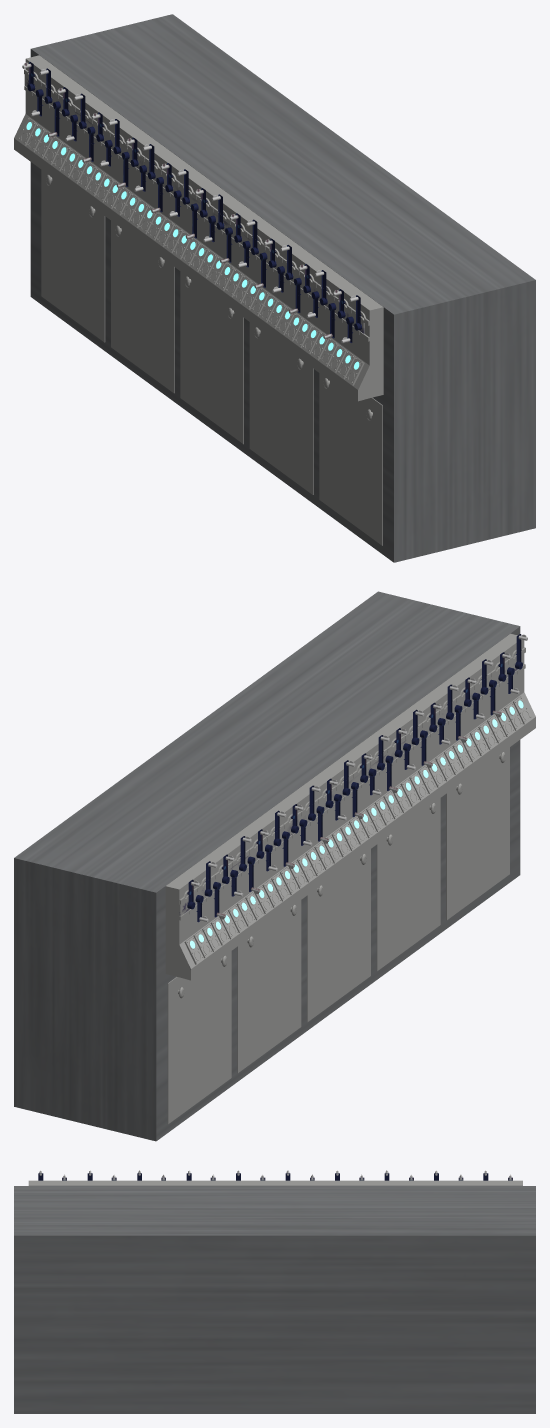
Rendered from EPICMachine_ver3.fbx.
3 renders of one model, top to bottom at view 1: azimuth 30°, elevation 25°; view 2: azimuth 150°, elevation 25°; view 3: azimuth 270°, elevation 25°, orthographic. The views are drawn at different scales.
Visible parts, largest first — view 1: MainBody.002, Rectangular Plate.002, MainBody_FrontController.003, Panel.002, Ring2.002, MidSection of Lever.002, Upper Lever Angle Limiter.003, Lower Lever Angle Limiter.002, Arc Lever limiter.002; view 2: MainBody.002, Rectangular Plate.002, MainBody_FrontController.003, Panel.002, Ring2.002, MidSection of Lever.002, Upper Lever Angle Limiter.003, Lower Lever Angle Limiter.002, Arc Lever limiter.002; view 3: MainBody.002, MainBody_FrontController.003.
Part boxes in pixels (x1,y1,x2,y2): MainBody.002: (30, 14, 535, 562); Rectangular Plate.002: (41, 170, 382, 545); MainBody_FrontController.003: (14, 55, 383, 401); Panel.002: (17, 117, 364, 385); Ring2.002: (20, 121, 360, 381); MidSection of Lever.002: (24, 74, 364, 333); Upper Lever Angle Limiter.003: (24, 70, 369, 325); Lower Lever Angle Limiter.002: (33, 92, 360, 334); Arc Lever limiter.002: (24, 69, 369, 321); MainBody.002: (14, 591, 520, 1141); Rectangular Plate.002: (167, 747, 509, 1124); MainBody_FrontController.003: (165, 633, 535, 980); Panel.002: (184, 696, 532, 964); Ring2.002: (189, 699, 529, 960); MidSection of Lever.002: (179, 659, 517, 916); Upper Lever Angle Limiter.003: (179, 649, 525, 904); Lower Lever Angle Limiter.002: (189, 670, 516, 913); Arc Lever limiter.002: (179, 647, 525, 900); MainBody.002: (14, 1186, 535, 1413); MainBody_FrontController.003: (28, 1180, 522, 1185).
Bounding box in the file's own units: 108 × 159 × 403.
